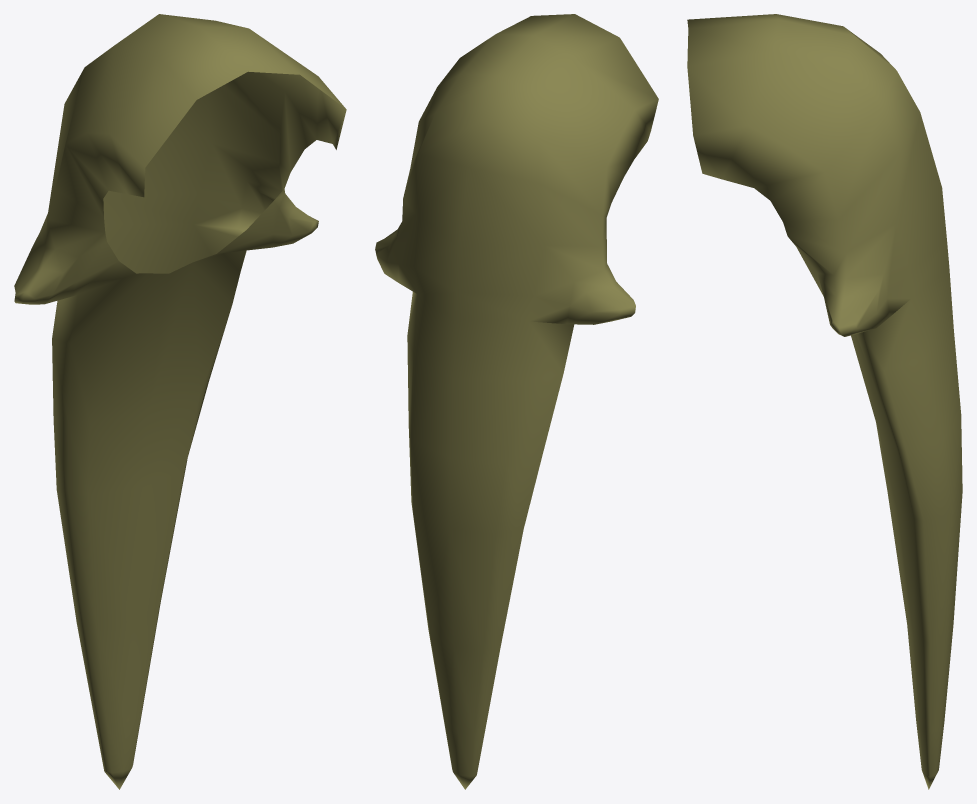
File: M_Hair-Fairy_TH.fbx
3 views of the same model, side by side, from view 1: azimuth 30°, elevation 25°; view 2: azimuth 150°, elevation 25°; view 3: azimuth 270°, elevation 25° (orthographic). The views are drawn at different scales.
Visible parts, largest first — view 1: hair_geo; view 2: hair_geo; view 3: hair_geo.
Part boxes in pixels (x1,y1,x2,y2): hair_geo: (14, 14, 346, 789); hair_geo: (375, 14, 658, 789); hair_geo: (687, 14, 962, 789).
Size of the model in its own units: 7.87 by 20.36 by 6.59.
